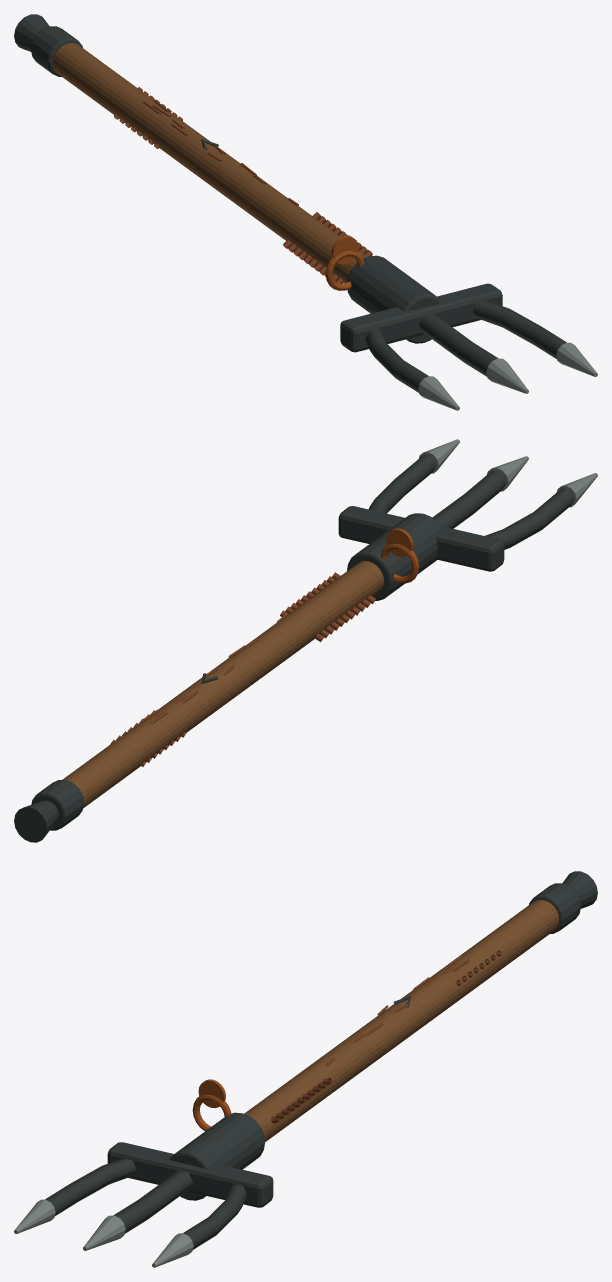
Rendered from levy_pitchfork_LOD0.glb.
3 renders of one model, top to bottom at view 1: azimuth 30°, elevation 25°; view 2: azimuth 150°, elevation 25°; view 3: azimuth 330°, elevation 25°, orthographic.
Parts seen in each view (by area): view 1: PitchforkAshHaft, PitchforkForgedShoulder, PitchforkIronSocket, PitchforkForgedTine.002, PitchforkForgedTine.001, PitchforkForgedTine, PitchforkButtCap, PitchforkPolishedTip.001, PitchforkGroundSpike, PitchforkPolishedTip.002, PitchforkPolishedTip, PitchforkBronzeTokenRing; view 2: PitchforkAshHaft, PitchforkForgedShoulder, PitchforkIronSocket, PitchforkForgedTine, PitchforkForgedTine.001, PitchforkForgedTine.002, PitchforkButtCap, PitchforkGroundSpike, PitchforkBronzeTokenRing; view 3: PitchforkAshHaft, PitchforkForgedShoulder, PitchforkIronSocket, PitchforkForgedTine, PitchforkForgedTine.001, PitchforkForgedTine.002, PitchforkButtCap, PitchforkPolishedTip.001, PitchforkGroundSpike, PitchforkPolishedTip, PitchforkPolishedTip.002, PitchforkBronzeTokenRing.
Part boxes in pixels (x1,y1,x2,y2): PitchforkAshHaft: (52,43,367,283); PitchforkForgedShoulder: (340,283,502,352); PitchforkIronSocket: (347,255,442,343); PitchforkForgedTine.002: (473,300,566,358); PitchforkForgedTine.001: (419,313,498,376); PitchforkForgedTine: (365,328,428,392); PitchforkButtCap: (30,26,82,76); PitchforkPolishedTip.001: (486,358,528,393); PitchforkGroundSpike: (14,14,49,51); PitchforkPolishedTip.002: (556,342,597,376); PitchforkPolishedTip: (418,376,459,410); PitchforkBronzeTokenRing: (325,251,364,290); PitchforkAshHaft: (62,561,383,807); PitchforkForgedShoulder: (338,506,504,571); PitchforkIronSocket: (347,513,442,600); PitchforkForgedTine: (485,488,574,549); PitchforkForgedTine.001: (432,470,506,528); PitchforkForgedTine.002: (368,454,436,513); PitchforkButtCap: (31,780,84,830); PitchforkGroundSpike: (14,800,58,842); PitchforkBronzeTokenRing: (380,543,419,583); PitchforkAshHaft: (244,900,559,1141); PitchforkForgedShoulder: (107,1142,273,1207); PitchforkIronSocket: (169,1112,264,1200); PitchforkForgedTine: (45,1158,136,1215); PitchforkForgedTine.001: (113,1170,193,1233); PitchforkForgedTine.002: (183,1184,247,1249); PitchforkButtCap: (529,883,581,933); PitchforkPolishedTip.001: (83,1215,125,1250); PitchforkGroundSpike: (562,871,597,908); PitchforkPolishedTip: (14,1199,55,1233); PitchforkPolishedTip.002: (152,1233,193,1267); PitchforkBronzeTokenRing: (192,1094,231,1131).
Size of the model in its own units: 0.494 by 0.227 by 2.68.
